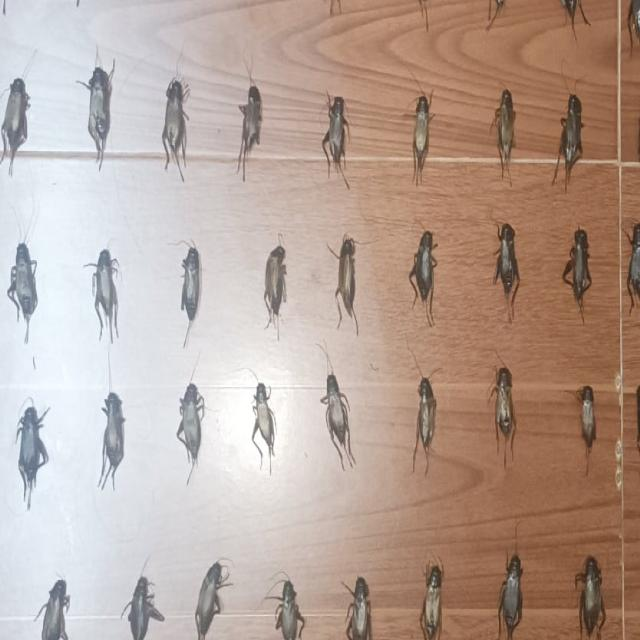egg: (6, 242, 38, 343), (17, 405, 48, 509), (194, 560, 232, 640), (562, 228, 592, 320), (553, 95, 582, 186), (97, 392, 124, 488), (87, 64, 113, 163), (493, 223, 520, 318), (325, 373, 352, 467), (409, 230, 436, 322), (127, 574, 164, 640), (577, 556, 606, 640), (237, 83, 262, 179), (162, 78, 188, 170), (176, 384, 203, 472), (492, 366, 516, 464), (2, 78, 28, 168), (412, 376, 436, 472), (497, 553, 523, 640), (335, 235, 358, 333), (93, 249, 117, 338), (94, 249, 117, 338), (263, 244, 285, 337), (322, 96, 348, 171), (181, 243, 201, 340), (252, 382, 275, 465), (494, 89, 515, 177), (38, 579, 68, 640), (420, 562, 443, 640), (275, 582, 304, 640), (345, 578, 372, 640), (412, 93, 429, 183), (627, 223, 640, 313), (580, 385, 595, 461), (560, 0, 585, 30), (487, 0, 507, 29), (628, 0, 640, 46)
